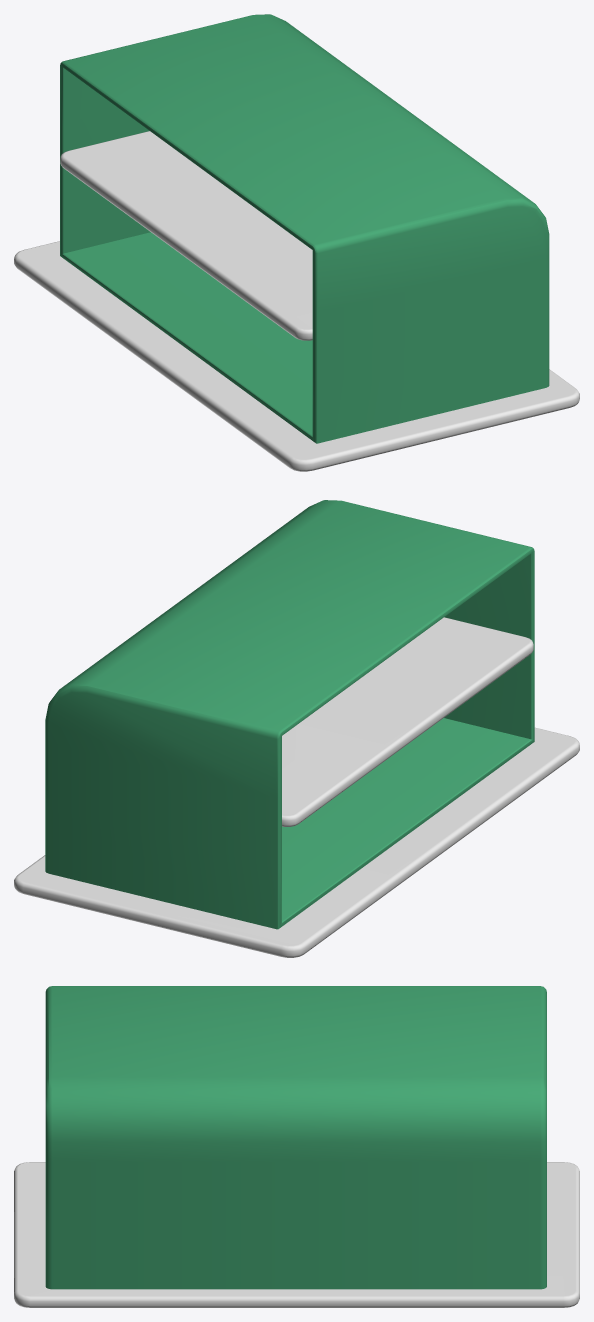
Rendered from DisplayCase.fbx.
3 views of the same model, one above another, from view 1: azimuth 30°, elevation 25°; view 2: azimuth 150°, elevation 25°; view 3: azimuth 270°, elevation 25° (orthographic). The views are drawn at different scales.
Parts seen in each view (by area): view 1: DisplayCase; view 2: DisplayCase; view 3: DisplayCase.
Boxes of the visible parts, x1=… form: DisplayCase: x1=14, y1=14, x2=579, y2=471; DisplayCase: x1=14, y1=500, x2=579, y2=957; DisplayCase: x1=14, y1=986, x2=579, y2=1307.
Size of the model in its own units: 27.08 by 18.64 by 47.08.
